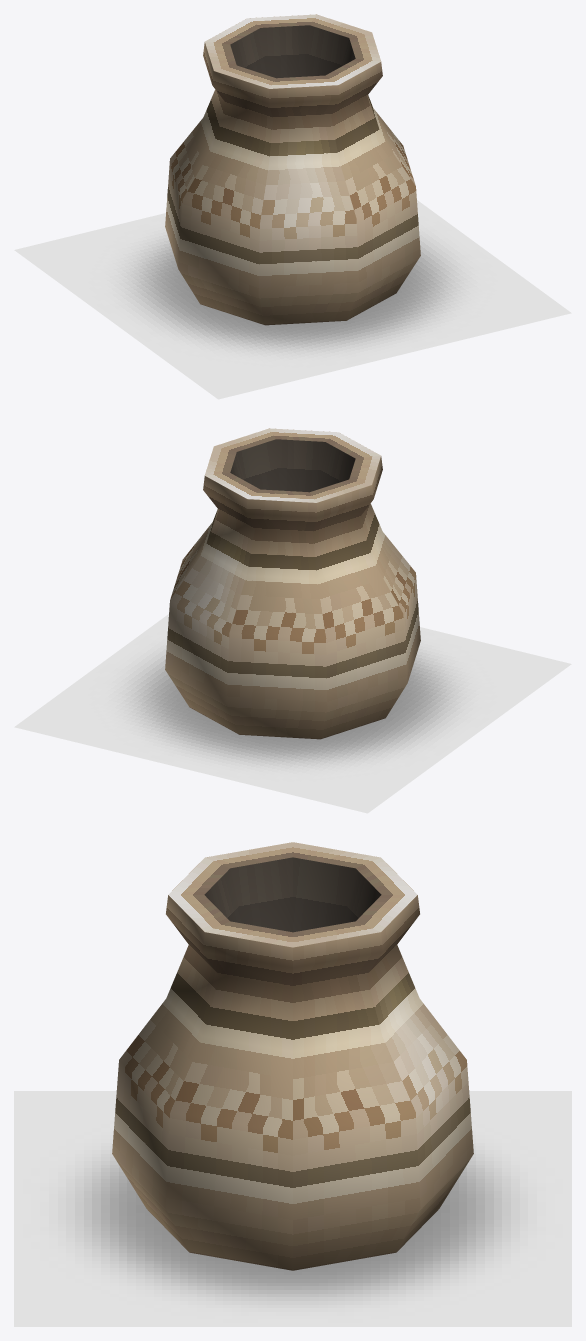
The model's file is Urn.fbx.
3 renders of one model, top to bottom at view 1: azimuth 30°, elevation 25°; view 2: azimuth 150°, elevation 25°; view 3: azimuth 270°, elevation 25°, orthographic. The views are drawn at different scales.
Parts seen in each view (by area): view 1: pot, shadow; view 2: pot, shadow; view 3: pot, shadow.
Boxes of the visible parts, x1,y1,x2,y2 form: pot: [165, 14, 420, 325]; shadow: [14, 200, 571, 399]; pot: [165, 428, 420, 739]; shadow: [14, 614, 571, 813]; pot: [112, 842, 473, 1270]; shadow: [14, 1091, 571, 1326].
Bounding box in the file's own units: 0.8 × 0.5068 × 0.8.
